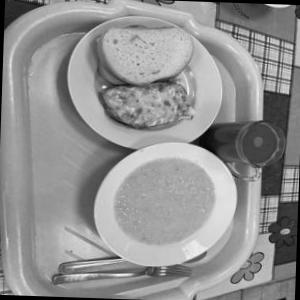bread: (84, 22, 202, 90)
cheese_sandwich: (89, 73, 202, 137)
porridge: (102, 152, 224, 250)
